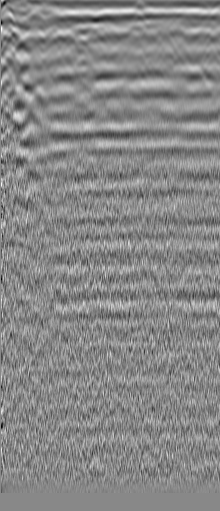오수: (23, 9, 43, 29)
우수: (167, 25, 187, 45)
